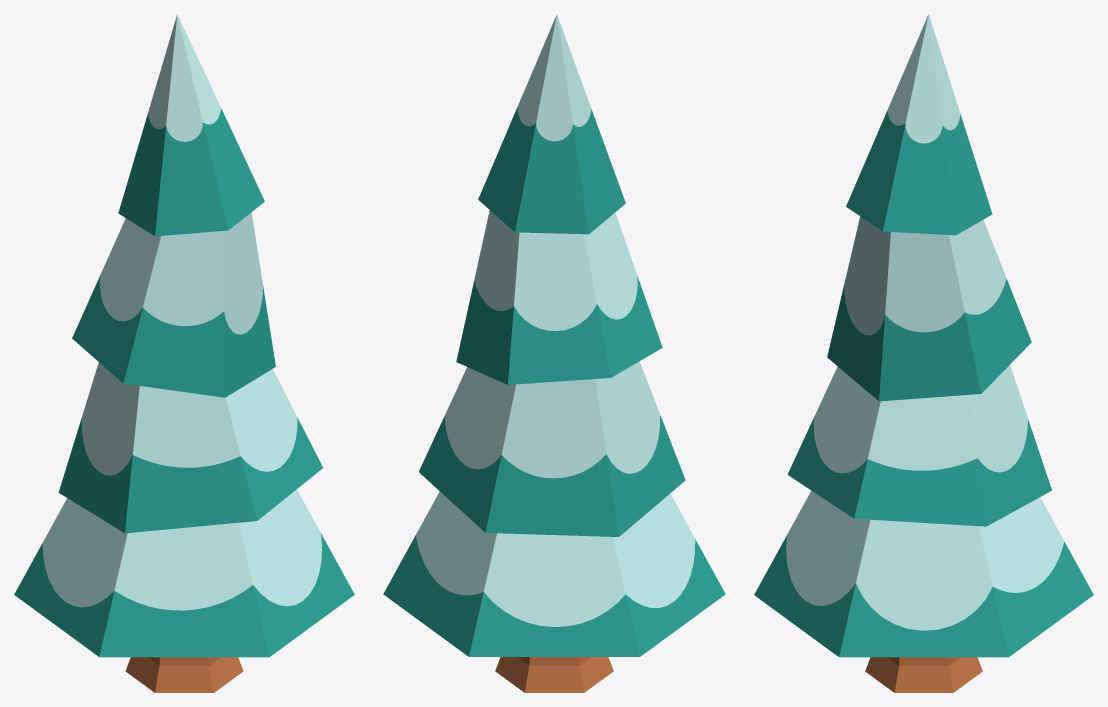
File: treePineSnowRound.dae
3 renders of one model, left to right at view 1: azimuth 30°, elevation 25°; view 2: azimuth 150°, elevation 25°; view 3: azimuth 270°, elevation 25°, orthographic.
Visible parts, largest first — view 1: treePineSnowRound; view 2: treePineSnowRound; view 3: treePineSnowRound.
Part boxes in pixels (x1,y1,x2,y2): treePineSnowRound: [14, 14, 354, 692]; treePineSnowRound: [383, 14, 725, 692]; treePineSnowRound: [754, 14, 1093, 692].
Size of the model in its own units: 0.651 by 1.6 by 0.7517.
